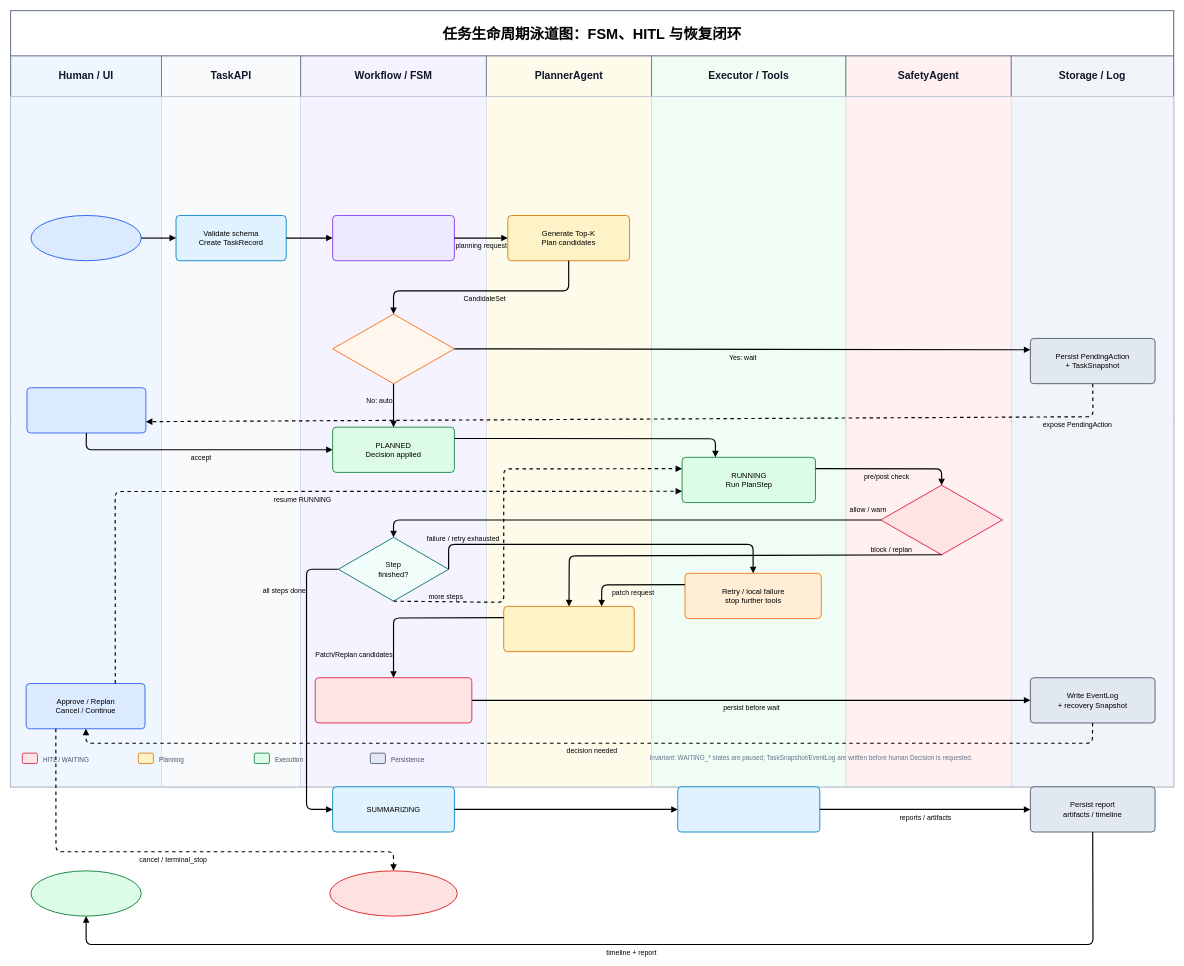
The diagram is 1184 pixels wide and 966 high, and some of its shapes have lost their labels. The shapes that lost their labels are listed below. From the top down, each one's centre as x and y in pixels, then its label:
the point at 85,238: Submit goal + constraints
the point at 393,238: CREATED → PLANNING
the point at 393,348: Plan confirmation required?
the point at 86,410: Review candidates Submit Decision
the point at 941,519: Safety allow / warn / block?
the point at 568,629: Generate Patch / Replan candidates
the point at 393,700: WAITING_PATCH_CONFIRM or WAITING_REPLAN_CONFIRM
the point at 748,809: SummarizerAgent DesignResult + report
the point at 85,893: View report DONE
the point at 393,893: FAILED / CANCELLED terminal
